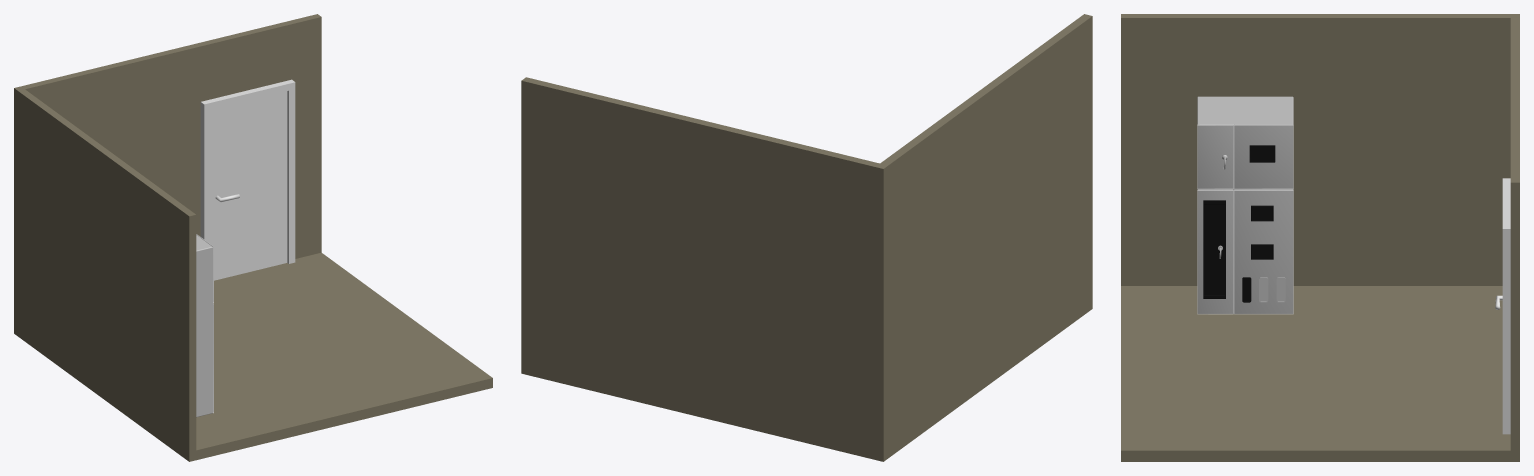
The model's file is exploration_1_2_side.fbx.
The picture shows the model from 3 angles, left to right: view 1: azimuth 30°, elevation 25°; view 2: azimuth 150°, elevation 25°; view 3: azimuth 270°, elevation 25°; orthographic projection. The views are drawn at different scales.
Parts seen in each view (by area): view 1: 立方体.032, 贝塞尔曲线.004, 立方体.023; view 2: 立方体.032; view 3: 立方体.032, 立方体.023, 贝塞尔曲线.004.
Part boxes in pixels (x1,y1,x2,y2): 立方体.032: [14, 14, 492, 461]; 贝塞尔曲线.004: [200, 79, 295, 280]; 立方体.023: [196, 234, 213, 417]; 立方体.032: [521, 14, 1092, 461]; 立方体.032: [1121, 14, 1519, 461]; 立方体.023: [1197, 96, 1293, 314]; 贝塞尔曲线.004: [1495, 178, 1510, 434].
Size of the model in its own units: 1617 by 1250 by 1617.
